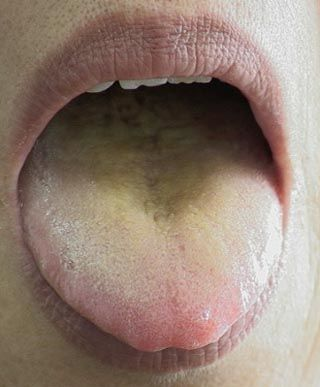huangtaishe: (19, 90, 283, 352)
pangdashe: (19, 90, 283, 352)
xinfeiao: (144, 336, 193, 351)
